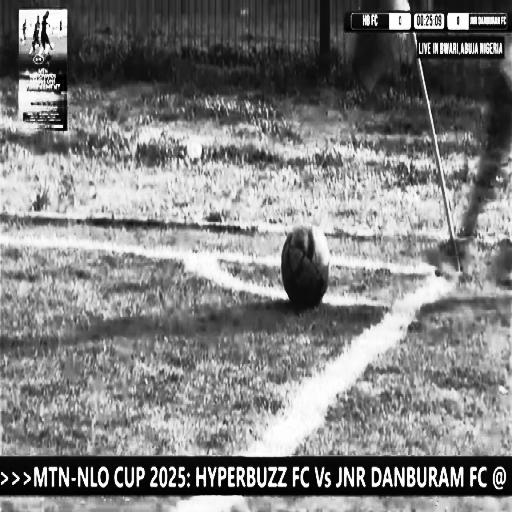ball: (262, 189, 355, 336)
